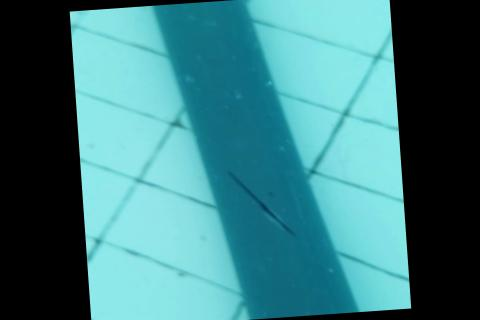keretakan: (223, 165, 297, 242)
